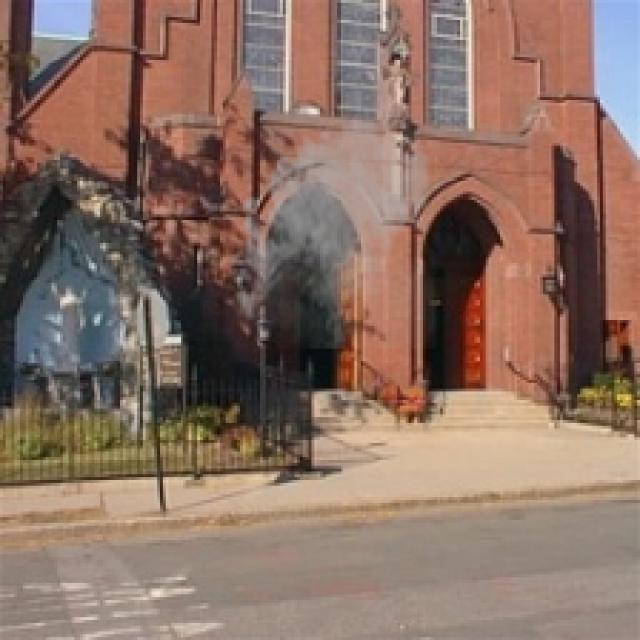Smoke: (229, 102, 437, 348)
